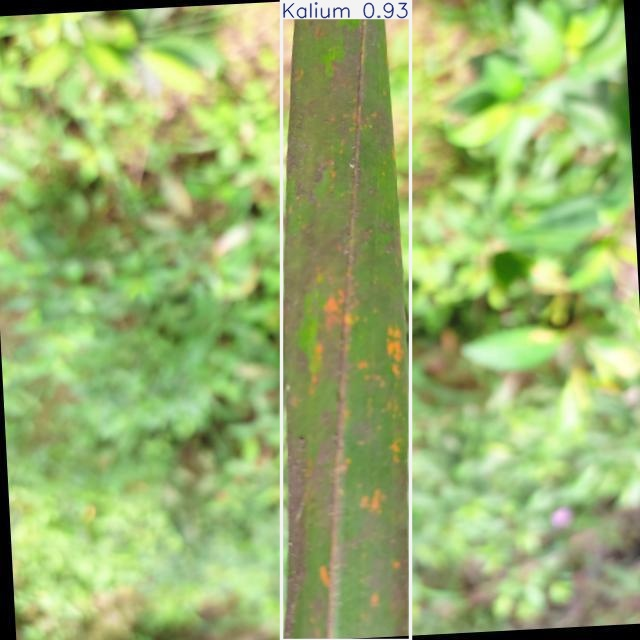Kalium: (282, 0, 411, 640)
